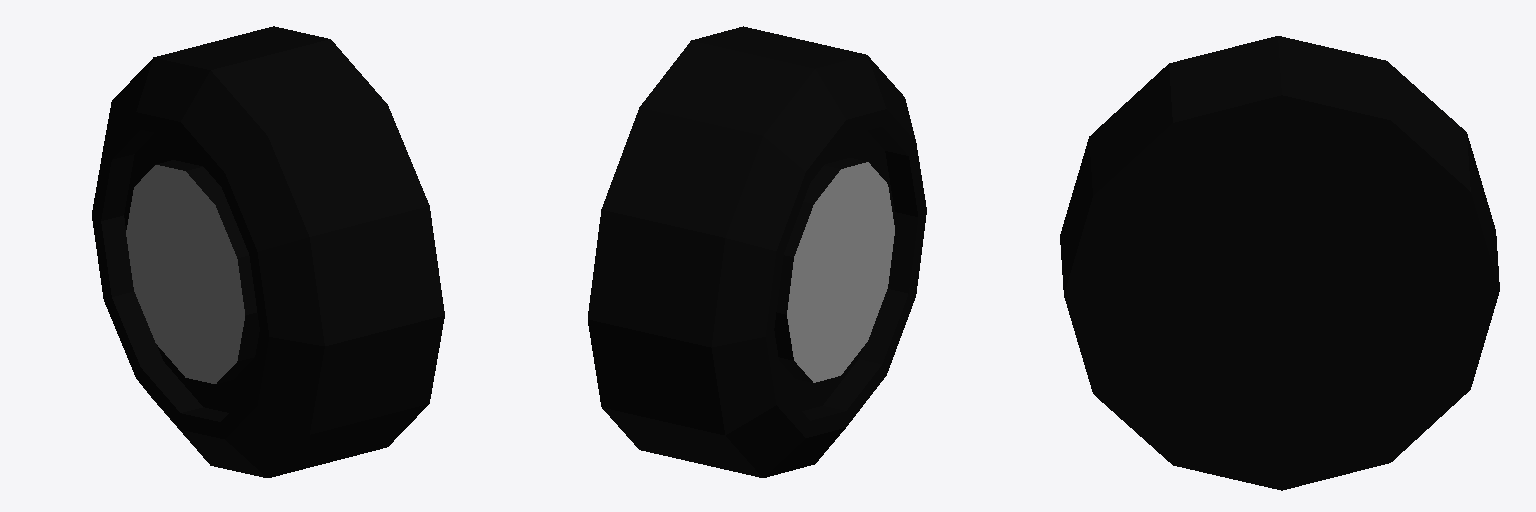
The model's file is anteriore_sinistra.obj.
3 views of the same model, side by side, from view 1: azimuth 30°, elevation 25°; view 2: azimuth 150°, elevation 25°; view 3: azimuth 270°, elevation 25° (orthographic).
Visible parts, largest first — view 1: wheelfl_Cylinder.030; view 2: wheelfl_Cylinder.030; view 3: wheelfl_Cylinder.030.
Boxes of the visible parts, <box> form: wheelfl_Cylinder.030: <box>92,26,444,477</box>; wheelfl_Cylinder.030: <box>588,26,926,477</box>; wheelfl_Cylinder.030: <box>1060,36,1499,490</box>.
Size of the model in its own units: 0.5094 by 1.19 by 1.2.